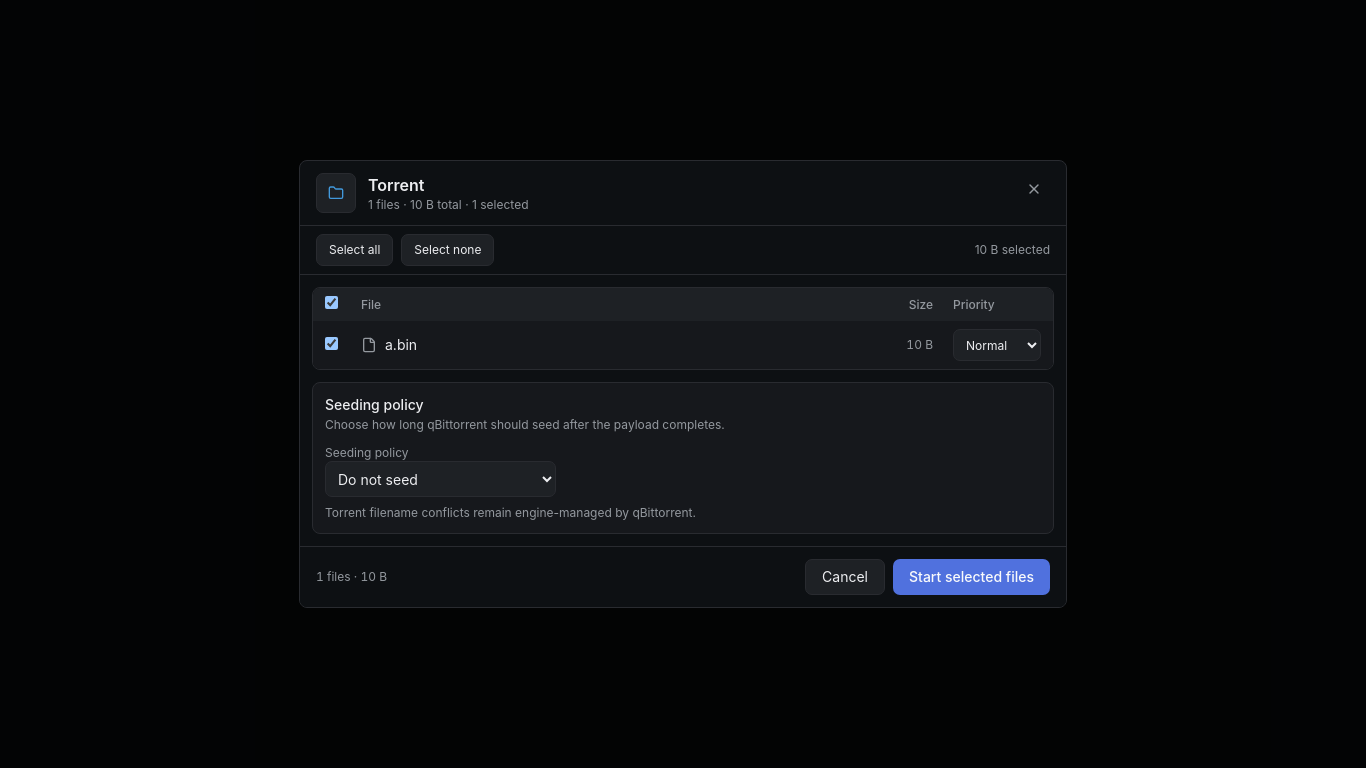
it: TorrentFileSelector seeding policy & submission › on API error keeps modal open, displays inline error inside modal, re-enables buttons, and preserves selections
Expected: the text "a.bin" is shown, top-left (385, 335), bottom-right (417, 355)
Click the button with aria-label "Start Download" at (972, 577), box top-left (893, 559), bottom-right (1050, 595)
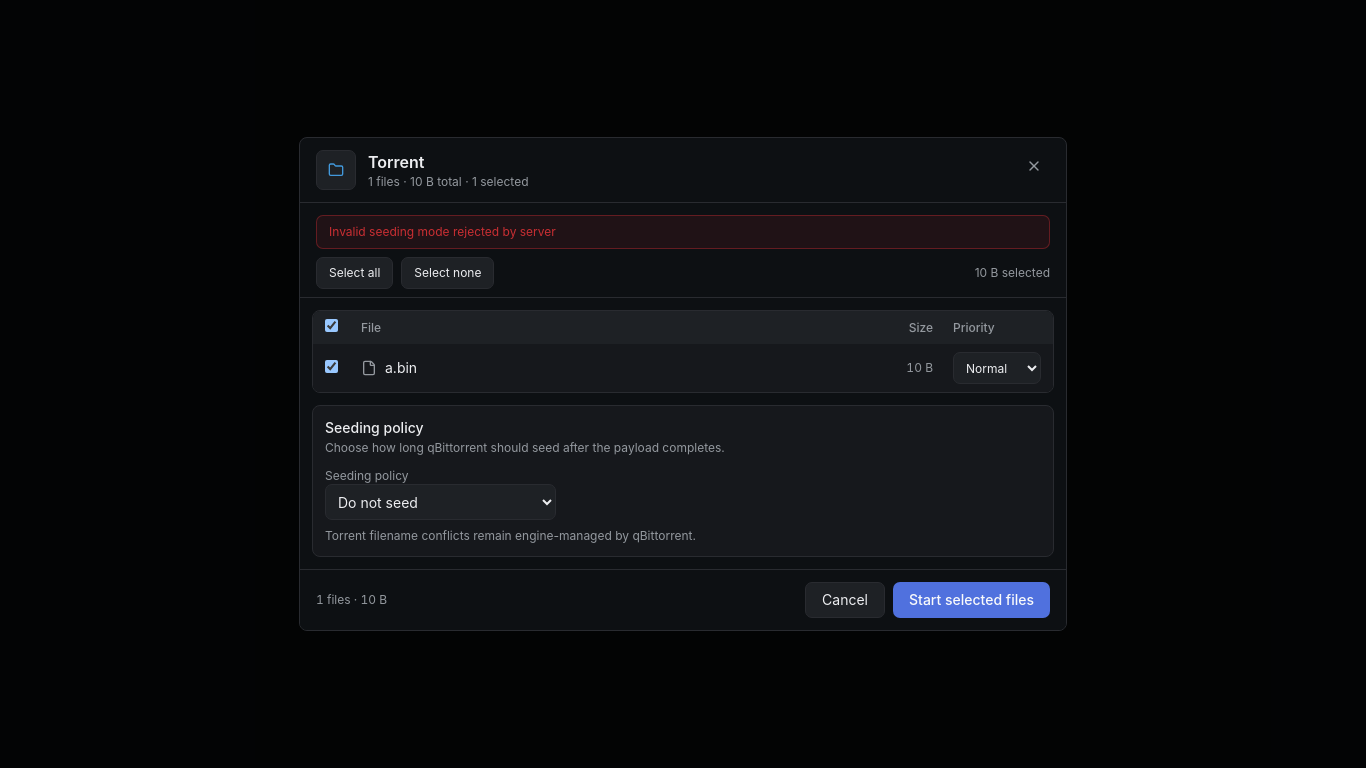
Expected: the button with aria-label "Start Download" is enabled, top-left (893, 582), bottom-right (1050, 618)
Now the text "Invalid seeding mode rejected by server" is shown, box top-left (316, 215), bottom-right (1050, 249)
